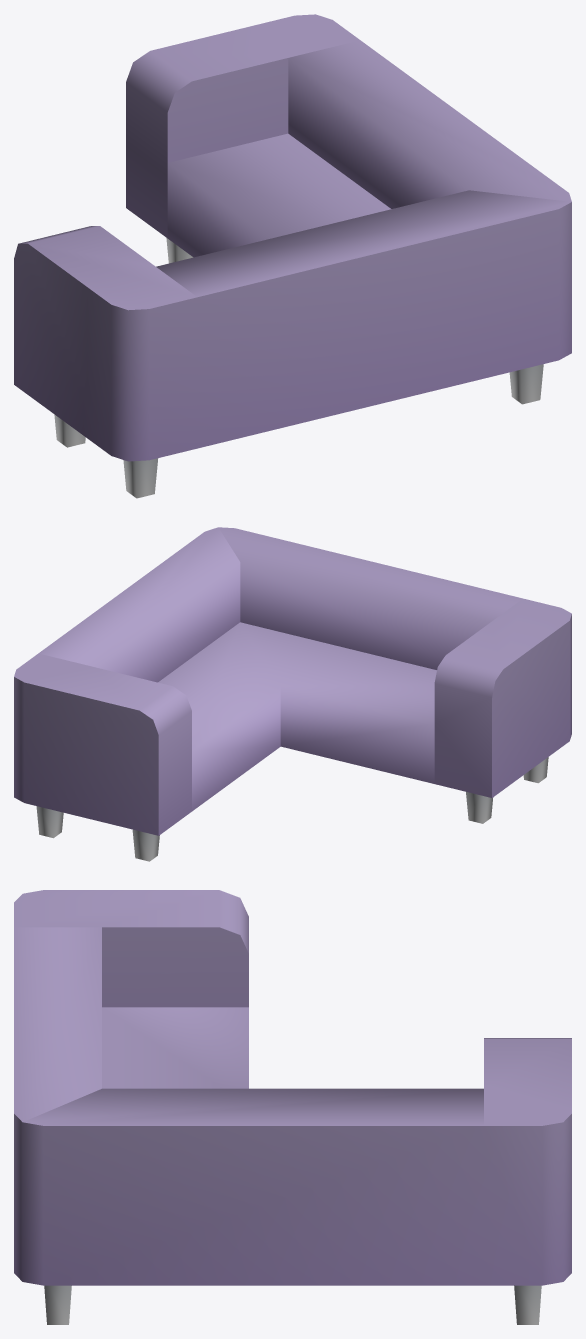
Rendered from manhattan-sofa-corner.glb.
The picture shows the model from 3 angles, top to bottom: view 1: azimuth 30°, elevation 25°; view 2: azimuth 150°, elevation 25°; view 3: azimuth 270°, elevation 25°; orthographic projection. The views are drawn at different scales.
Visible parts, largest first — view 1: manhattan-sofa-corner; view 2: manhattan-sofa-corner; view 3: manhattan-sofa-corner.
Boxes of the visible parts, left/top/right/bottom form: manhattan-sofa-corner: left=14, top=14, right=571, bottom=498; manhattan-sofa-corner: left=14, top=527, right=571, bottom=861; manhattan-sofa-corner: left=14, top=890, right=571, bottom=1324.
Bounding box in the file's own units: 1.6 × 0.672 × 1.6.
